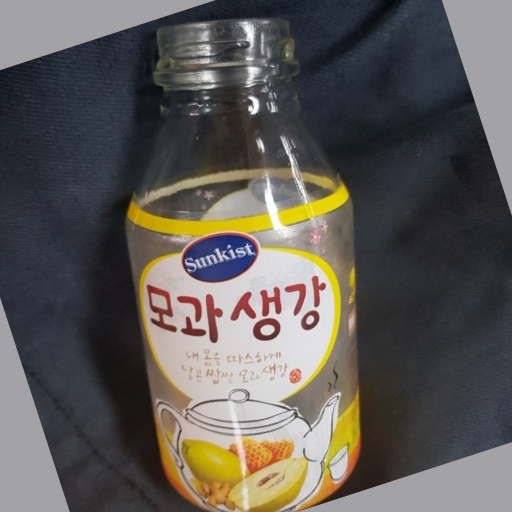Glass_4: (122, 11, 367, 507)
